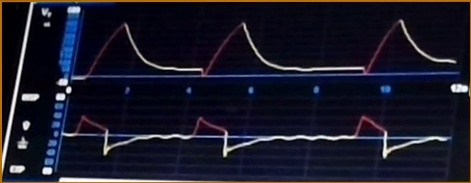Flow: (66, 111, 450, 171)
Leakage Volume: (81, 16, 457, 83)
